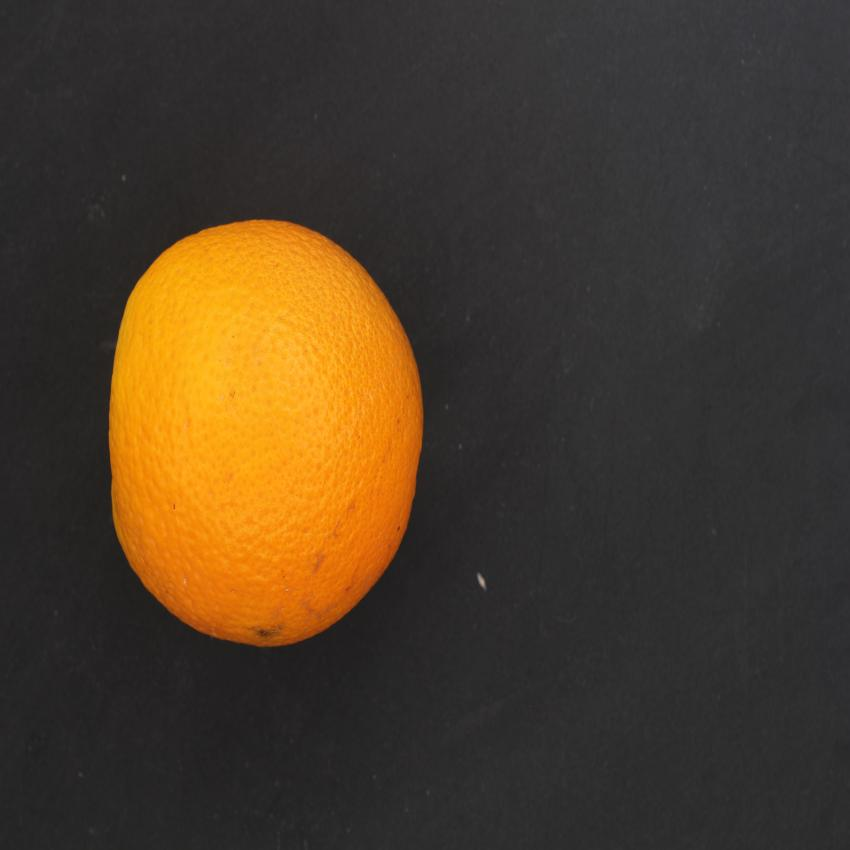Buen estado: (96, 203, 457, 673)
